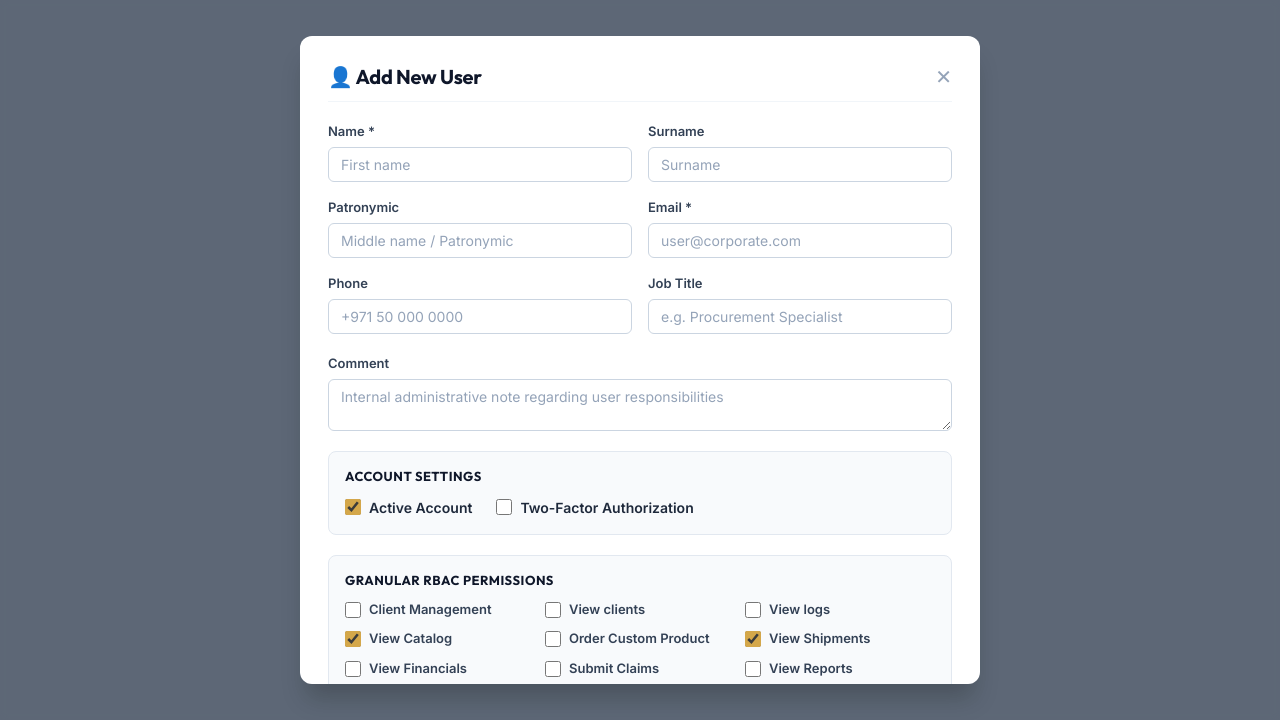
Test: Members Components & Page (FEAT-1.4) › AddMemberModal Component › catches and displays error when createMember throws exception
Type "Samir" into the field labelled "Name *" at (480, 165), box [328,147,632,182]
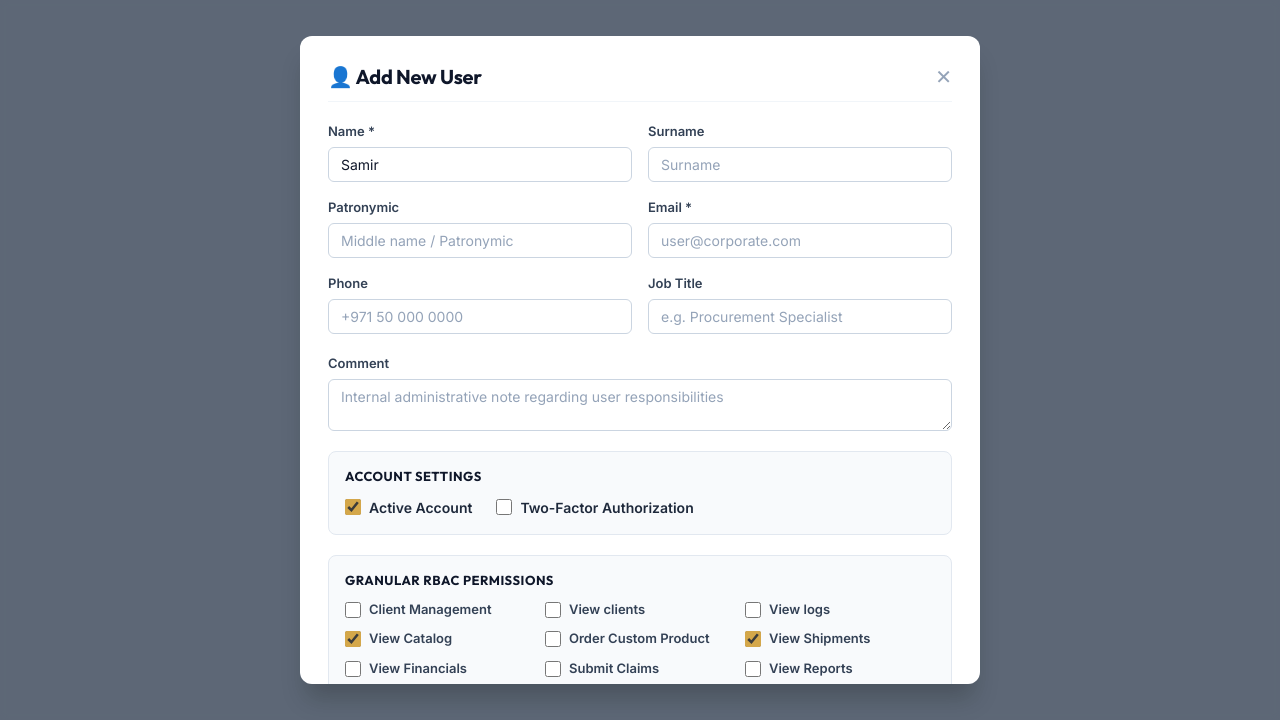
Type "samir@lulu.com" into the field labelled "Email *" at (800, 241), box [648,223,952,258]
(page scrolled)
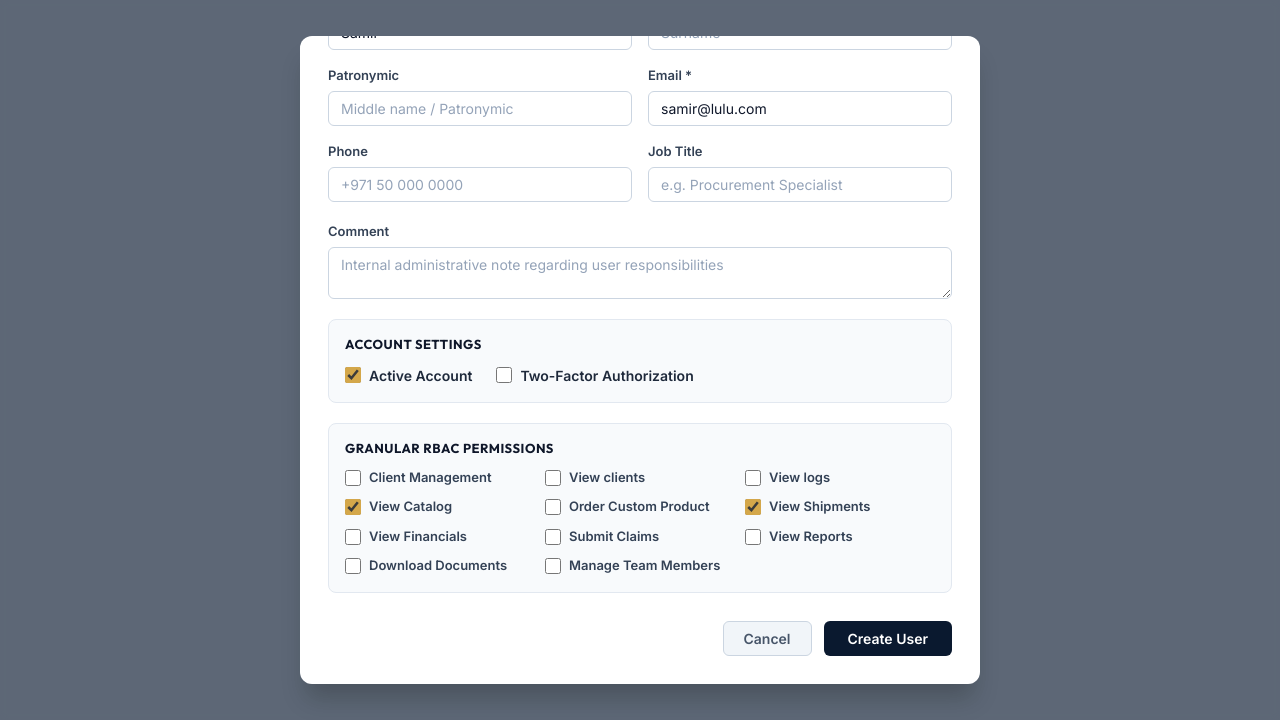
Click the button "Create User" at (888, 638), box [824,621,952,656]
(page scrolled)
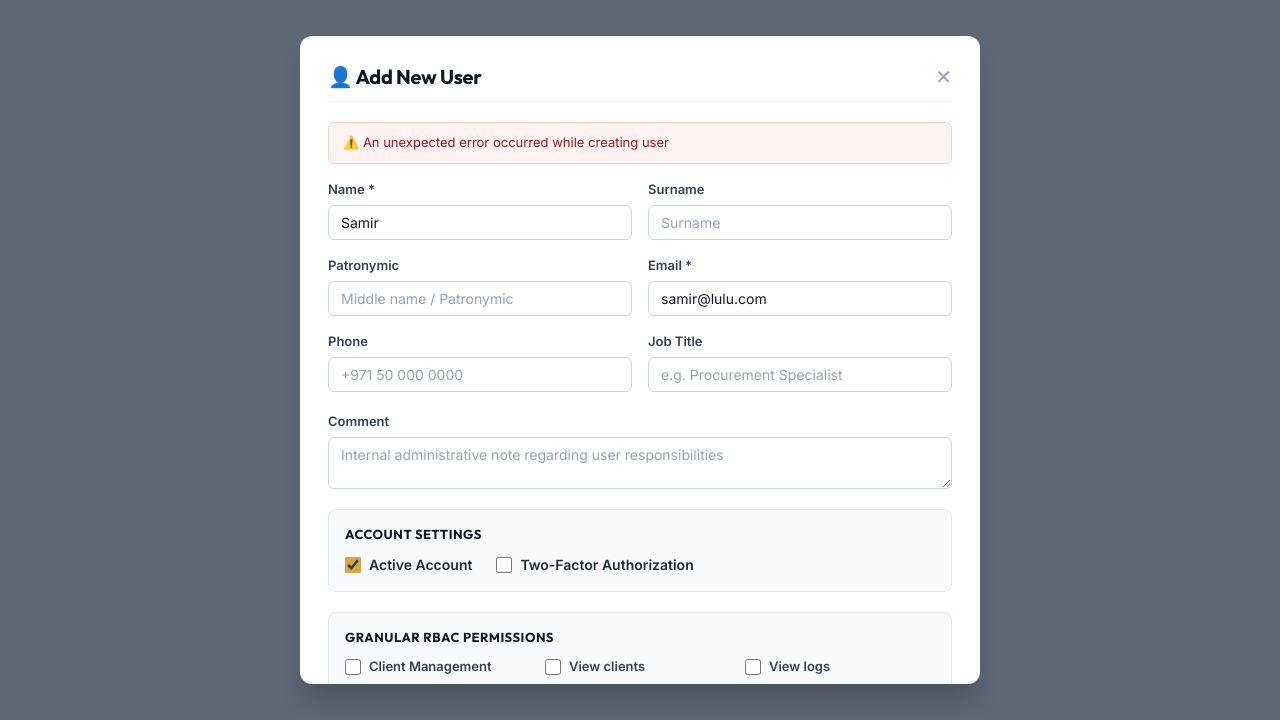
Now the text "⚠️ An unexpected error occurred while creating user" is shown, box [328,122,952,164]
